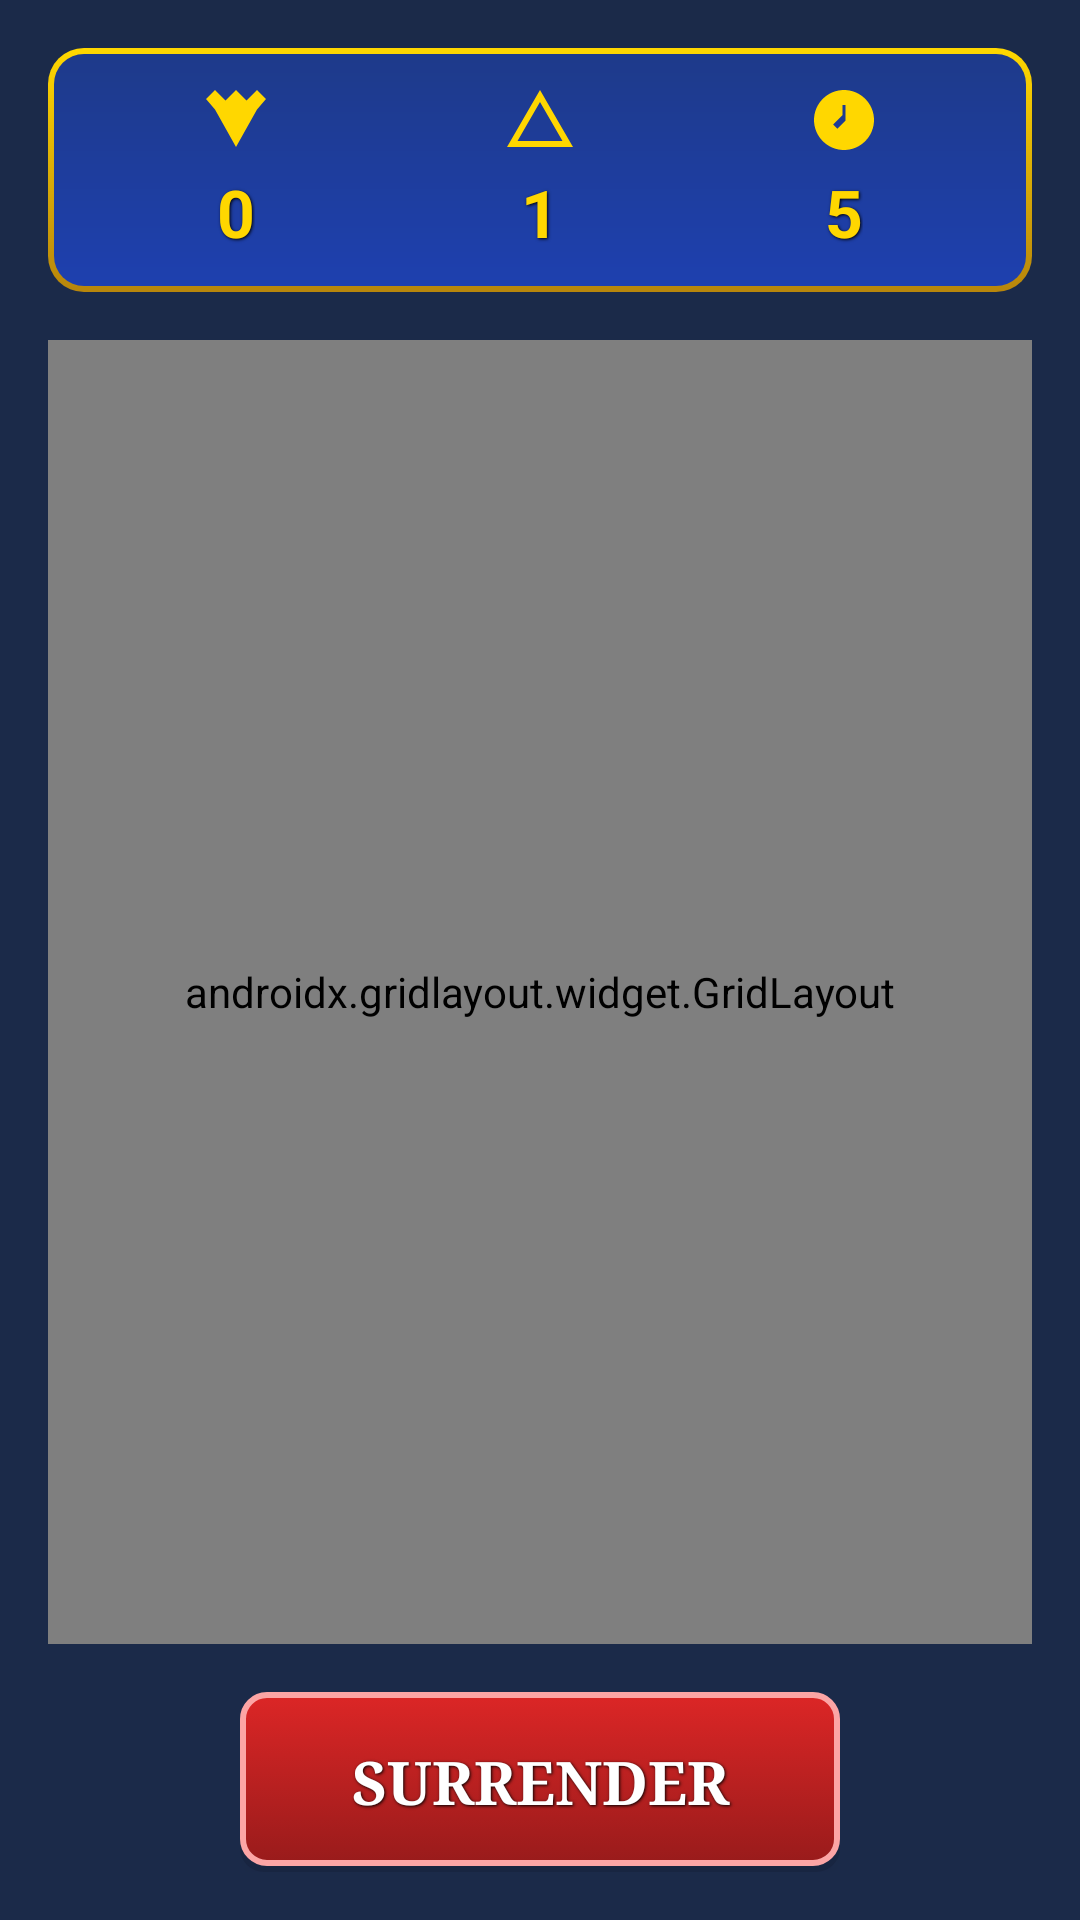

Icons on this 1080 × 1920 Android screen, each with its box as Rect(x1, y1, x2, y2):
crown: Rect(206, 90, 266, 147)
timer: Rect(814, 90, 874, 150)
